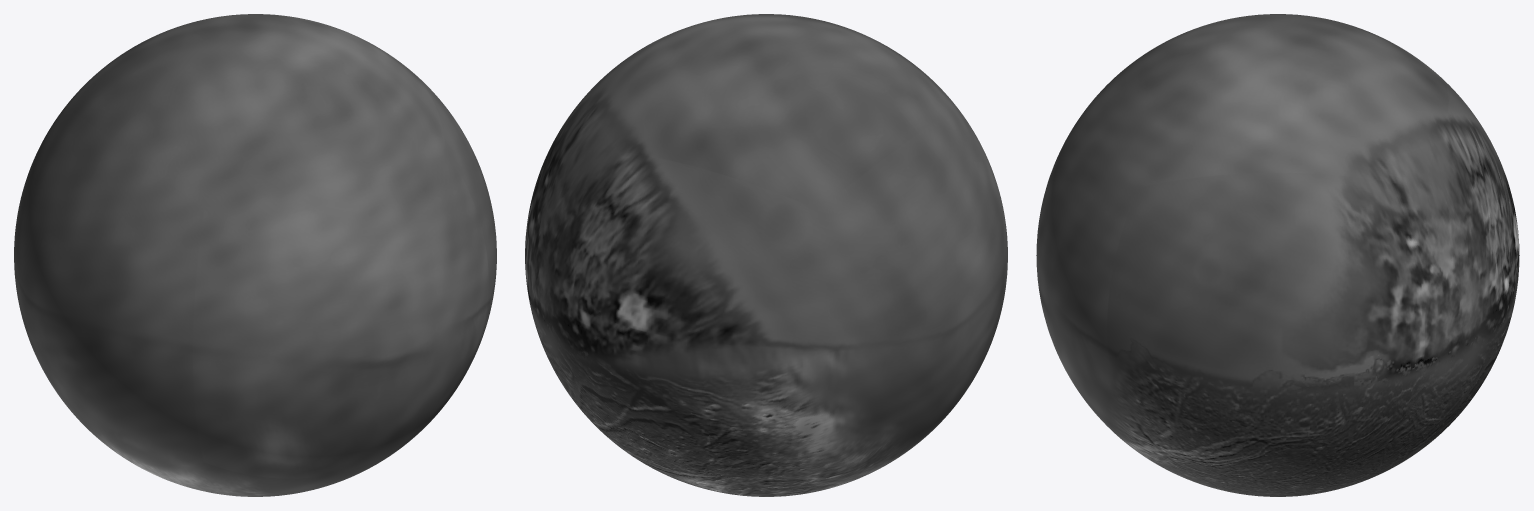
Rendered from ariel.glb.
3 views of the same model, side by side, from view 1: azimuth 30°, elevation 25°; view 2: azimuth 150°, elevation 25°; view 3: azimuth 270°, elevation 25° (orthographic).
Parts seen in each view (by area): view 1: ariel_globe; view 2: ariel_globe; view 3: ariel_globe.
Part boxes in pixels (box(x1,y1,x2,y2)): ariel_globe: box(14, 14, 496, 496); ariel_globe: box(525, 14, 1007, 496); ariel_globe: box(1036, 14, 1519, 496).
Bounding box in the file's own units: 2 × 2 × 2.
1 material, 1 textured.
